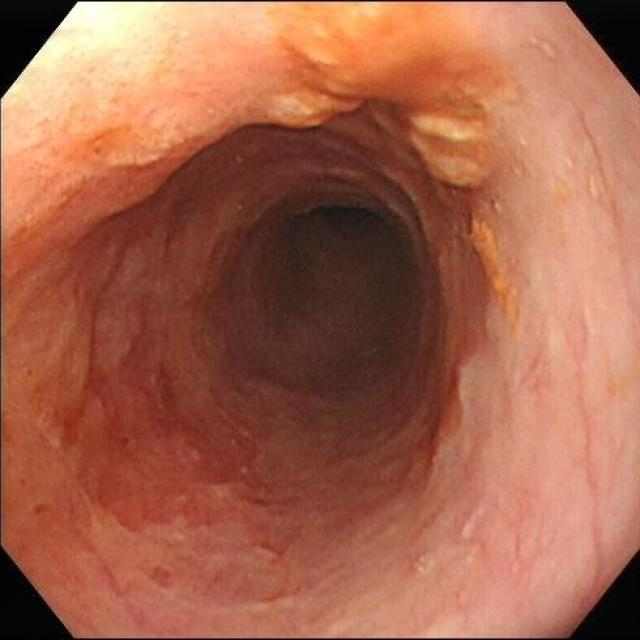A: (60, 369, 224, 533), (422, 350, 475, 481)
B: (268, 3, 502, 194), (469, 220, 518, 322)
E: (235, 192, 428, 401)
